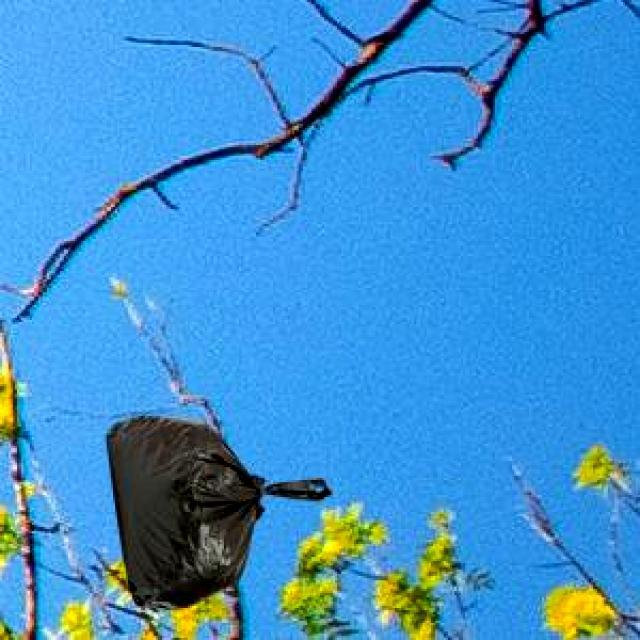Garbage_Bag: (104, 413, 328, 607)
